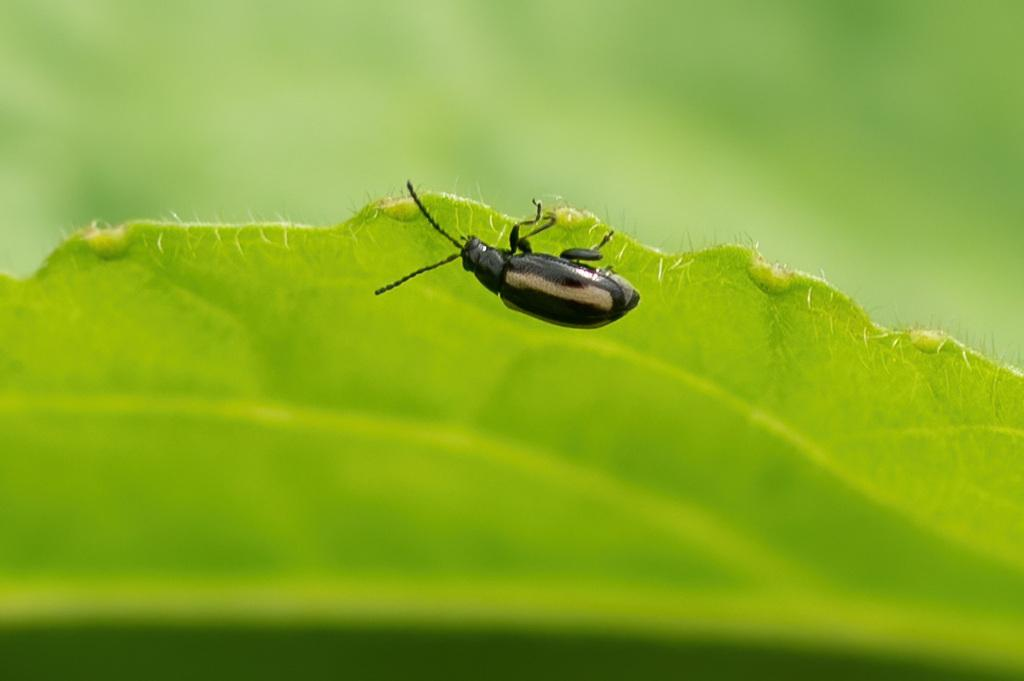flea_beetle: (329, 144, 677, 389)
